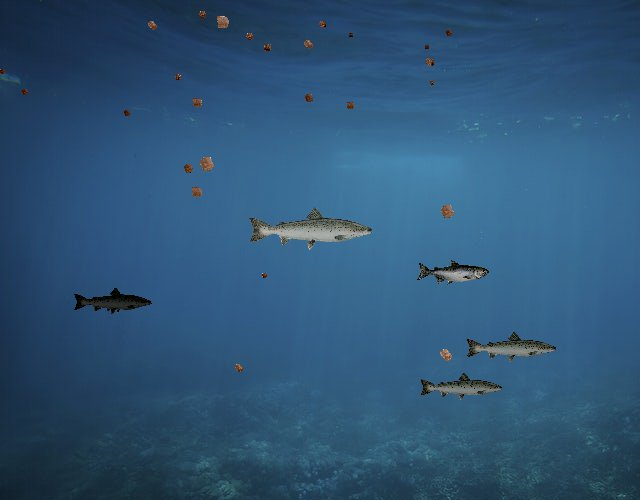Fish: (246, 205, 375, 251), (464, 330, 558, 364), (418, 371, 504, 402), (72, 286, 153, 315), (416, 259, 489, 286), (95, 297, 142, 314)
Pellet: (192, 149, 222, 178), (432, 342, 459, 369), (185, 181, 208, 204), (230, 359, 248, 377), (170, 70, 185, 85), (120, 106, 134, 120)
